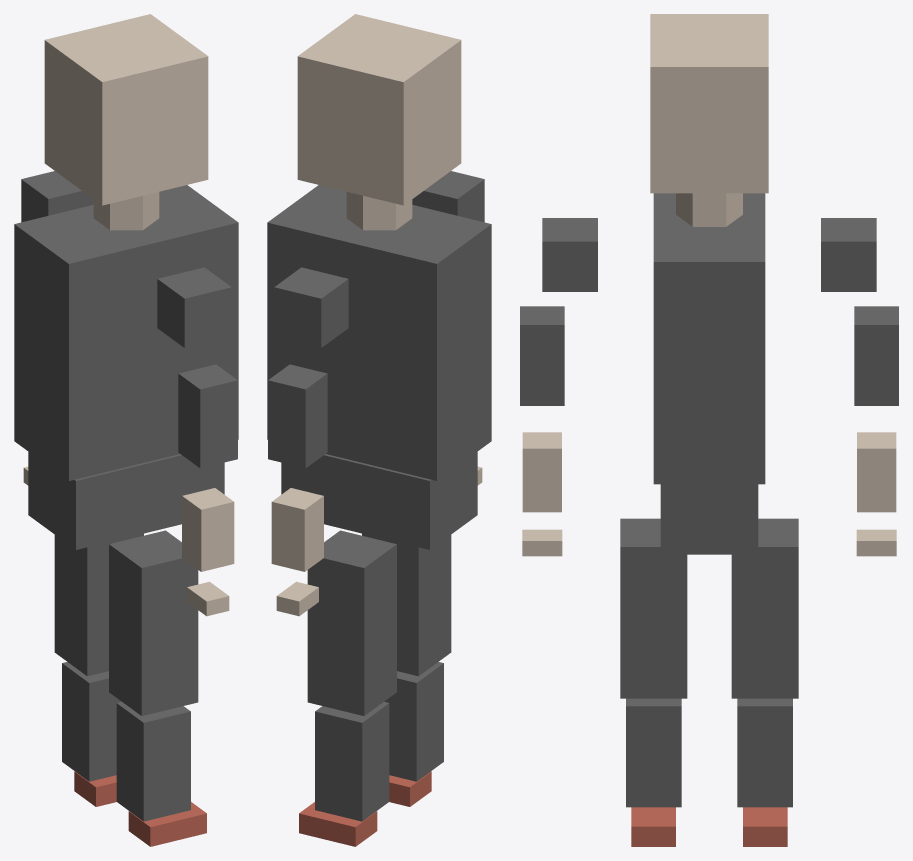
File: raider_00.glb
The picture shows the model from 3 angles, left to right: view 1: azimuth 30°, elevation 25°; view 2: azimuth 150°, elevation 25°; view 3: azimuth 270°, elevation 25°; orthographic projection. The views are drawn at different scales.
Visible parts, largest first — view 1: raider_00; view 2: raider_00; view 3: raider_00.
Part boxes in pixels (x1,y1,x2,y2): raider_00: (14,14,238,846); raider_00: (267,14,491,846); raider_00: (520,14,898,846).
Size of the model in its own units: 0.36 by 1.55 by 0.68.
